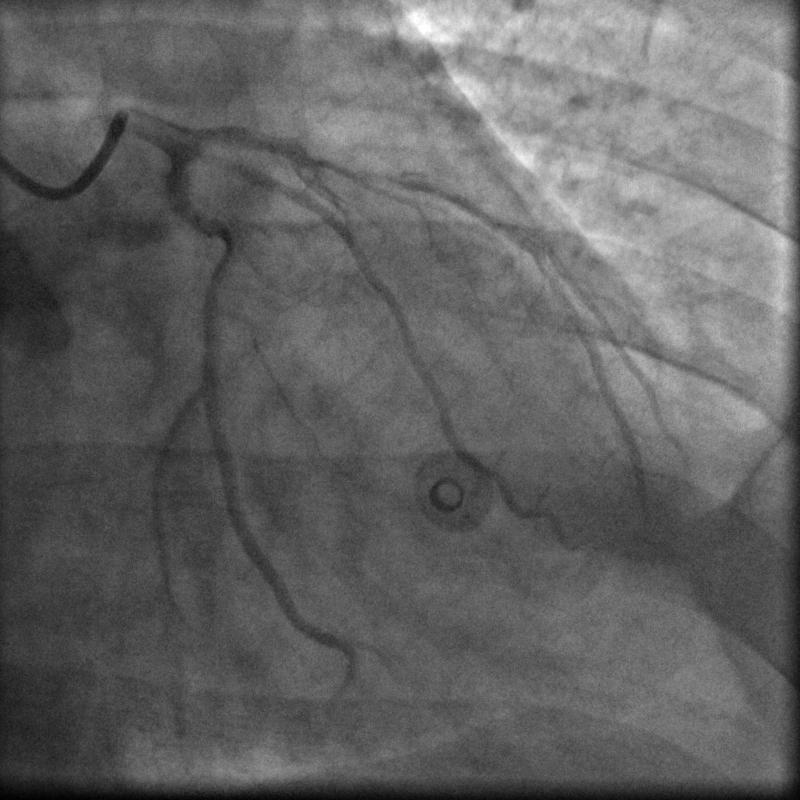Stenosis: (316, 153, 404, 193)
